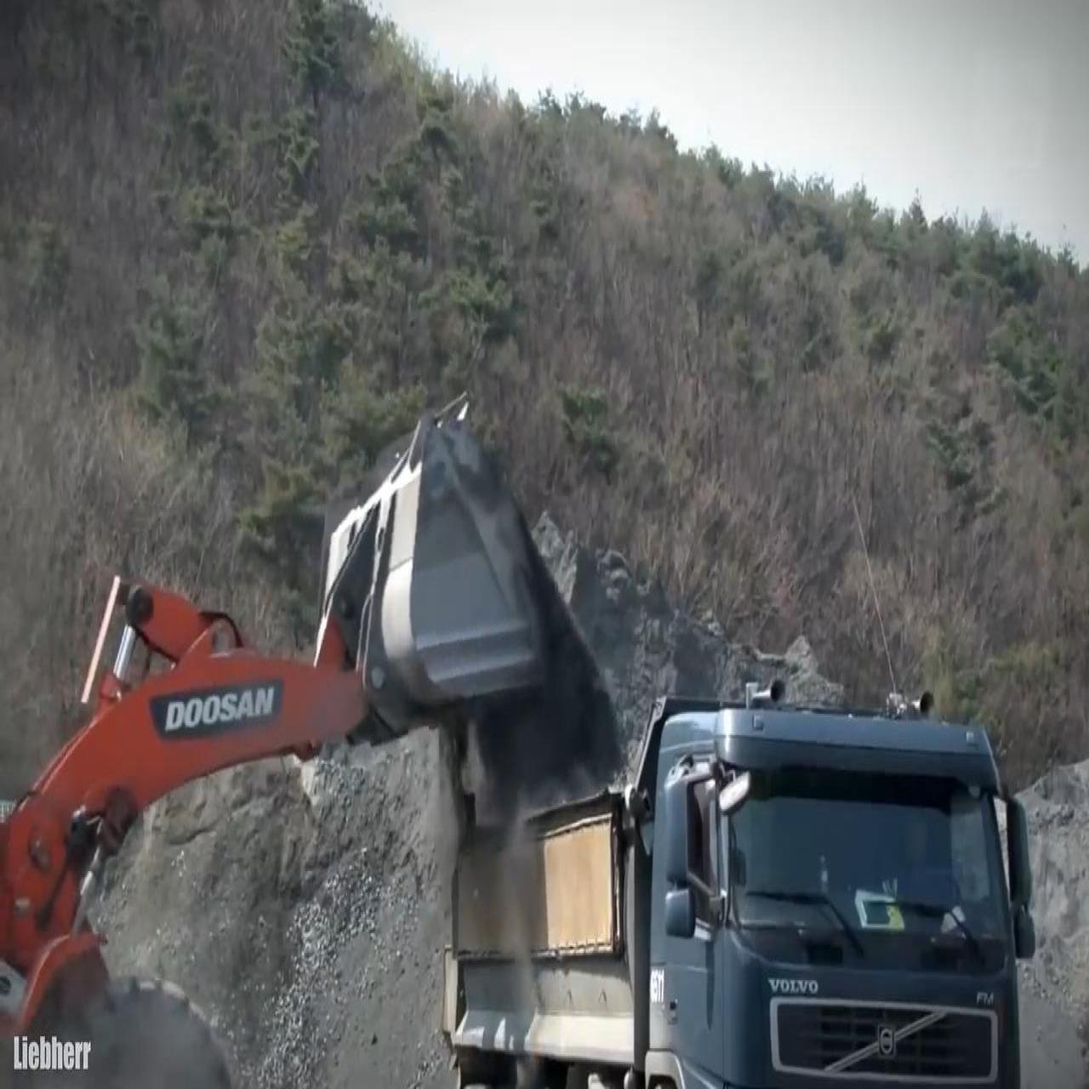Person: (894, 808, 935, 880)
